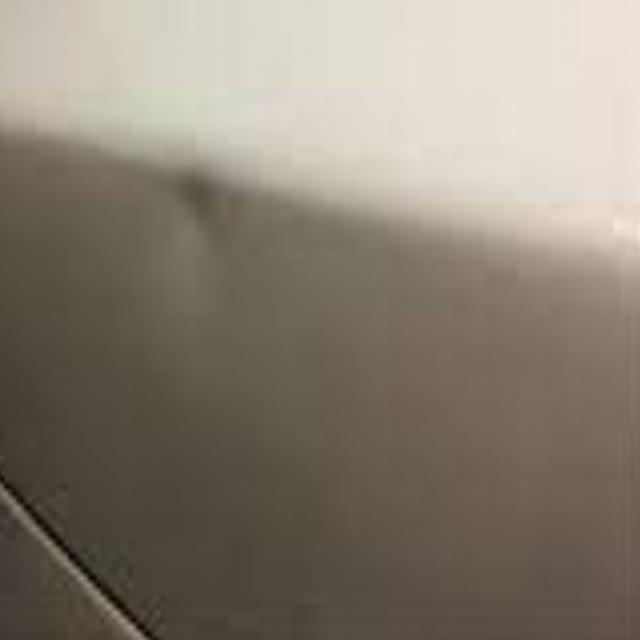dents: (153, 128, 255, 289), (253, 292, 253, 296)
